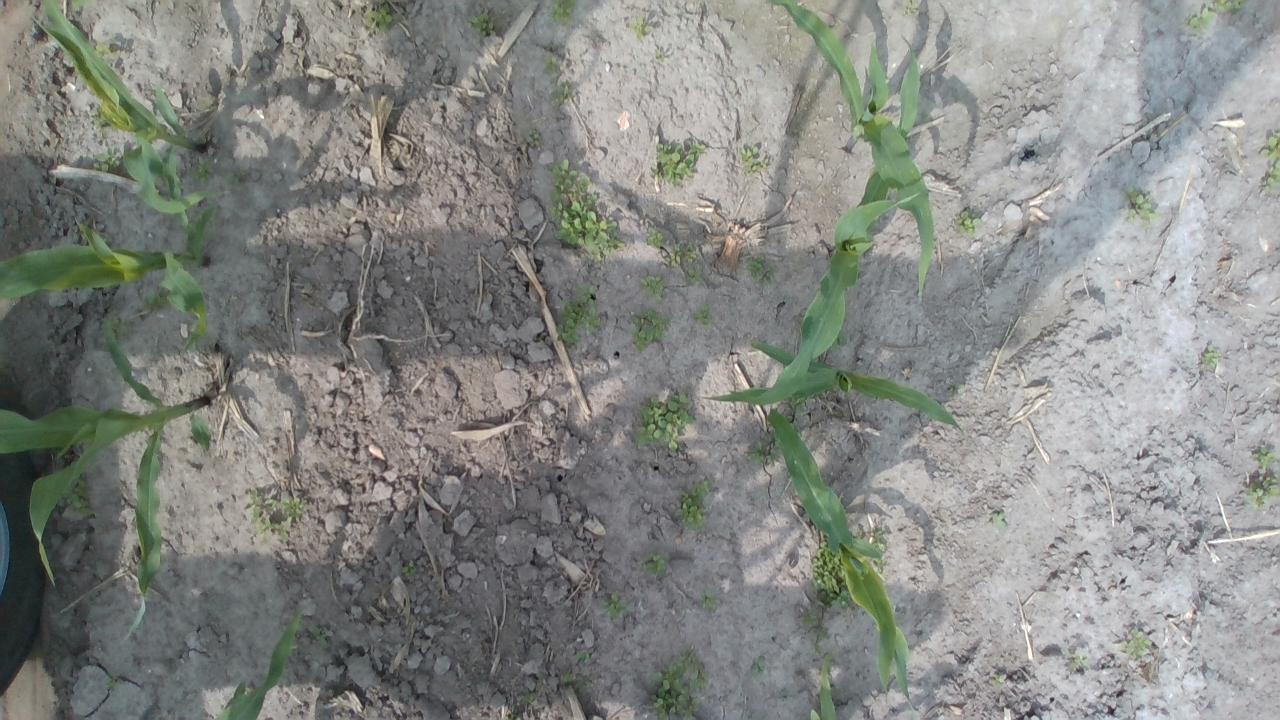Maize: (734, 36, 924, 399), (0, 325, 212, 640), (763, 0, 934, 298), (766, 407, 917, 715), (35, 0, 205, 228), (0, 209, 213, 352), (704, 338, 965, 438), (216, 617, 299, 720), (808, 653, 836, 720)
Weeds: (543, 159, 626, 262), (650, 649, 706, 720), (638, 391, 696, 451), (809, 540, 849, 609), (651, 138, 707, 186), (557, 284, 600, 346), (674, 478, 714, 530), (630, 308, 671, 352), (53, 476, 95, 516), (1124, 187, 1162, 228), (746, 430, 781, 465), (1248, 471, 1280, 508), (1260, 132, 1280, 190), (744, 256, 779, 289), (244, 488, 276, 519), (736, 146, 769, 176), (1121, 628, 1152, 659), (661, 242, 697, 268), (366, 3, 396, 32), (954, 207, 982, 235), (599, 590, 627, 618), (637, 552, 669, 576), (546, 0, 576, 25), (94, 144, 120, 172), (280, 496, 304, 526), (1187, 7, 1215, 31), (638, 274, 668, 296), (559, 673, 595, 691), (144, 288, 173, 310), (628, 15, 651, 41), (108, 316, 132, 340), (310, 622, 330, 650), (1212, 0, 1250, 14), (471, 14, 495, 36), (1253, 448, 1280, 467), (192, 158, 210, 184), (814, 628, 831, 655), (1202, 345, 1220, 370), (694, 302, 712, 326), (686, 262, 704, 286), (698, 592, 720, 610), (646, 230, 666, 248), (870, 530, 886, 552), (554, 85, 571, 105), (787, 416, 803, 437), (258, 518, 281, 532), (542, 55, 558, 75), (1070, 654, 1088, 671), (798, 612, 816, 628), (402, 559, 418, 577), (751, 657, 764, 678), (90, 111, 107, 127), (94, 42, 112, 57), (204, 207, 217, 226), (991, 673, 1006, 689), (902, 0, 918, 15), (526, 127, 540, 144), (992, 512, 1008, 526), (576, 650, 594, 662), (224, 174, 242, 186), (104, 677, 120, 690), (871, 556, 888, 568), (788, 398, 808, 408), (522, 694, 536, 704), (951, 383, 964, 393)
